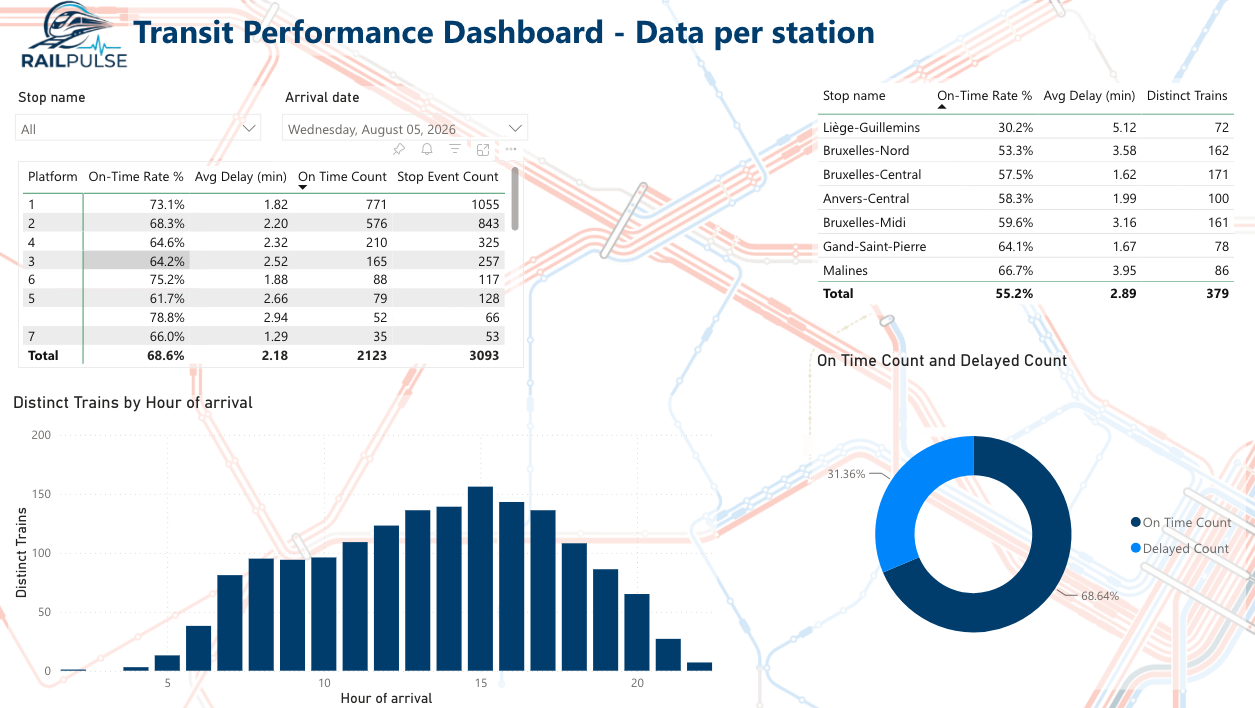

The page's visual inventory and layout, read from the dashboard file:
{"tool":"powerbi","page":{"name":"Data per station","canvas":[1280,720],"ordinal":1},"visuals":[{"type":"slicer","fields":{"Values":["dim_stations.Stop name"]},"box":[6.8,91.4,268.5,72.6],"z":0},{"type":"pivotTable","fields":{"Rows":["dim_stations.Platform"],"Values":["trip_stop_updates.On-Time Rate %","trip_stop_updates.Avg Delay (min)","trip_stop_updates.On Time Count","alert_active_periods.Stop Event Count"]},"box":[20,167,510,209],"z":1000},{"type":"lineClusteredColumnComboChart","fields":{"Category":["trip_stop_updates.Hour of arrival"],"Y":["trip_stop_updates.Distinct Trains"]},"box":[10,403,714,317.8],"z":2000},{"type":"image","box":[0,0,154.1,83.6],"z":3000},{"type":"slicer","fields":{"Values":["trip_stop_updates.Arrival date"]},"box":[275.7,91.4,267.9,75.5],"z":4000},{"type":"tableEx","fields":{"Values":["dim_stations.Stop name","trip_stop_updates.On-Time Rate %","trip_stop_updates.Avg Delay (min)","trip_stop_updates.Distinct Trains"]},"box":[820,84,460,239],"z":5000},{"type":"textbox","box":[131,8,974,53],"z":6000},{"type":"donutChart","fields":{"Y":["trip_stop_updates.On Time Count","trip_stop_updates.Delayed Count"]},"box":[820,360,437,339],"z":7000}]}

Visuals, with their boxes in screenshot pixels (x1, y1, x2, y2), scaled from the page's 1280x720 canvas onto the 1255x708 screenshot:
slicer - dim_stations.Stop name: (7, 90, 270, 161)
pivotTable - dim_stations.Platform x trip_stop_updates.On-Time Rate %: (20, 164, 520, 370)
lineClusteredColumnComboChart - trip_stop_updates.Hour of arrival x trip_stop_updates.Distinct Trains: (10, 396, 710, 707)
image: (0, 0, 151, 82)
slicer - trip_stop_updates.Arrival date: (270, 90, 533, 164)
tableEx - dim_stations.Stop name x trip_stop_updates.On-Time Rate %: (804, 83, 1254, 318)
textbox: (128, 8, 1083, 60)
donutChart - trip_stop_updates.On Time Count x trip_stop_updates.Delayed Count: (804, 354, 1232, 687)
